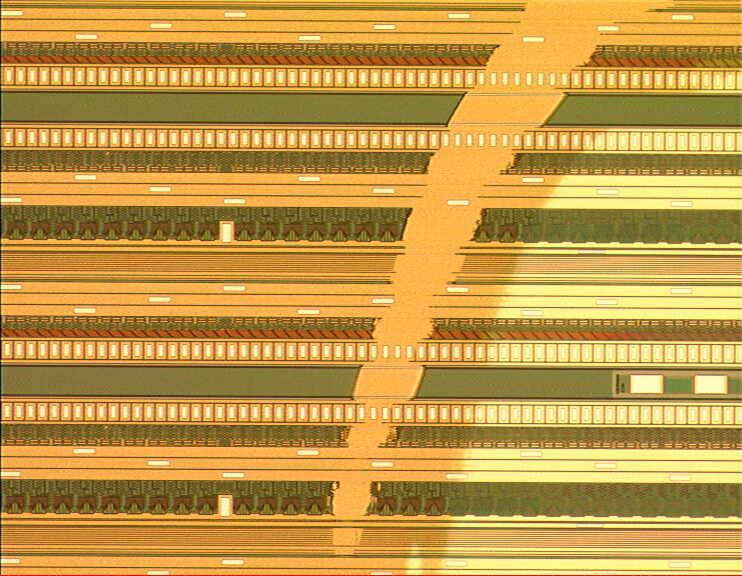COATING BAD: (331, 1, 742, 576)
